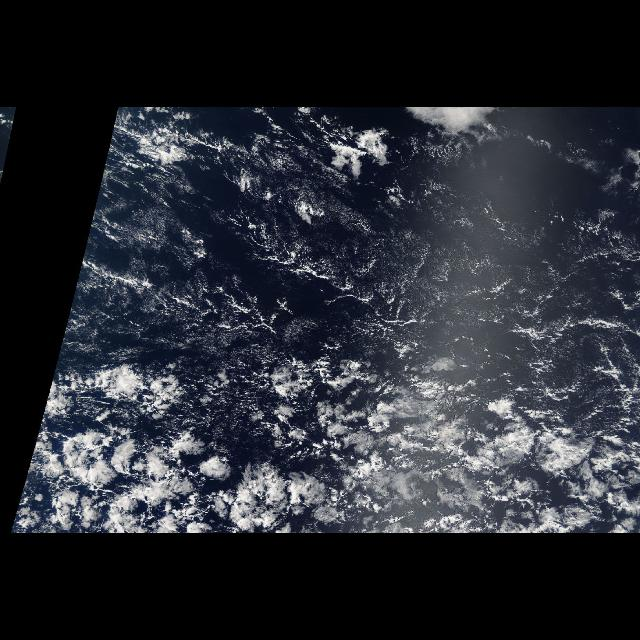Gravel: (115, 137, 640, 397)
